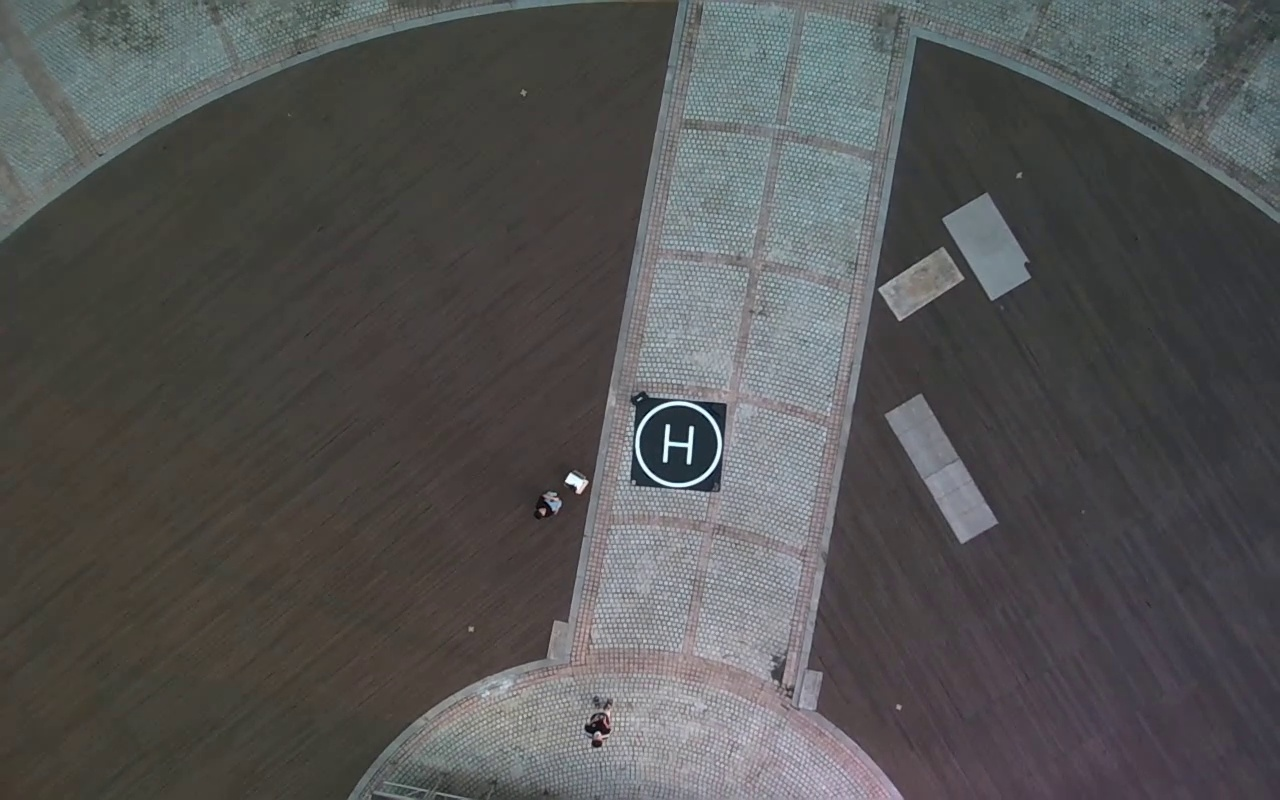H: (661, 422, 693, 464)
heliport: (635, 400, 722, 487)
